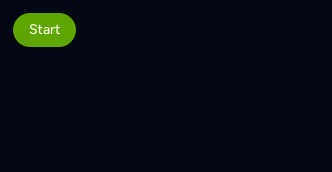
it: Button › handles loading timeout gracefully
Later steps or results of the test are not shown.
Note: Click to start operation
What coordinates should you click on to do the following:
click the button
I would click on:
 (45, 30)
Its box is [12,12,77,48].
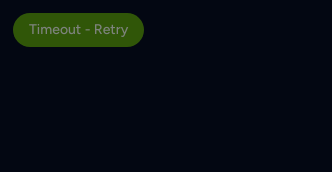
Now the button reads "Timeout - Retry", box [12,12,145,48]
Now the button is disabled, box [12,12,145,48]
